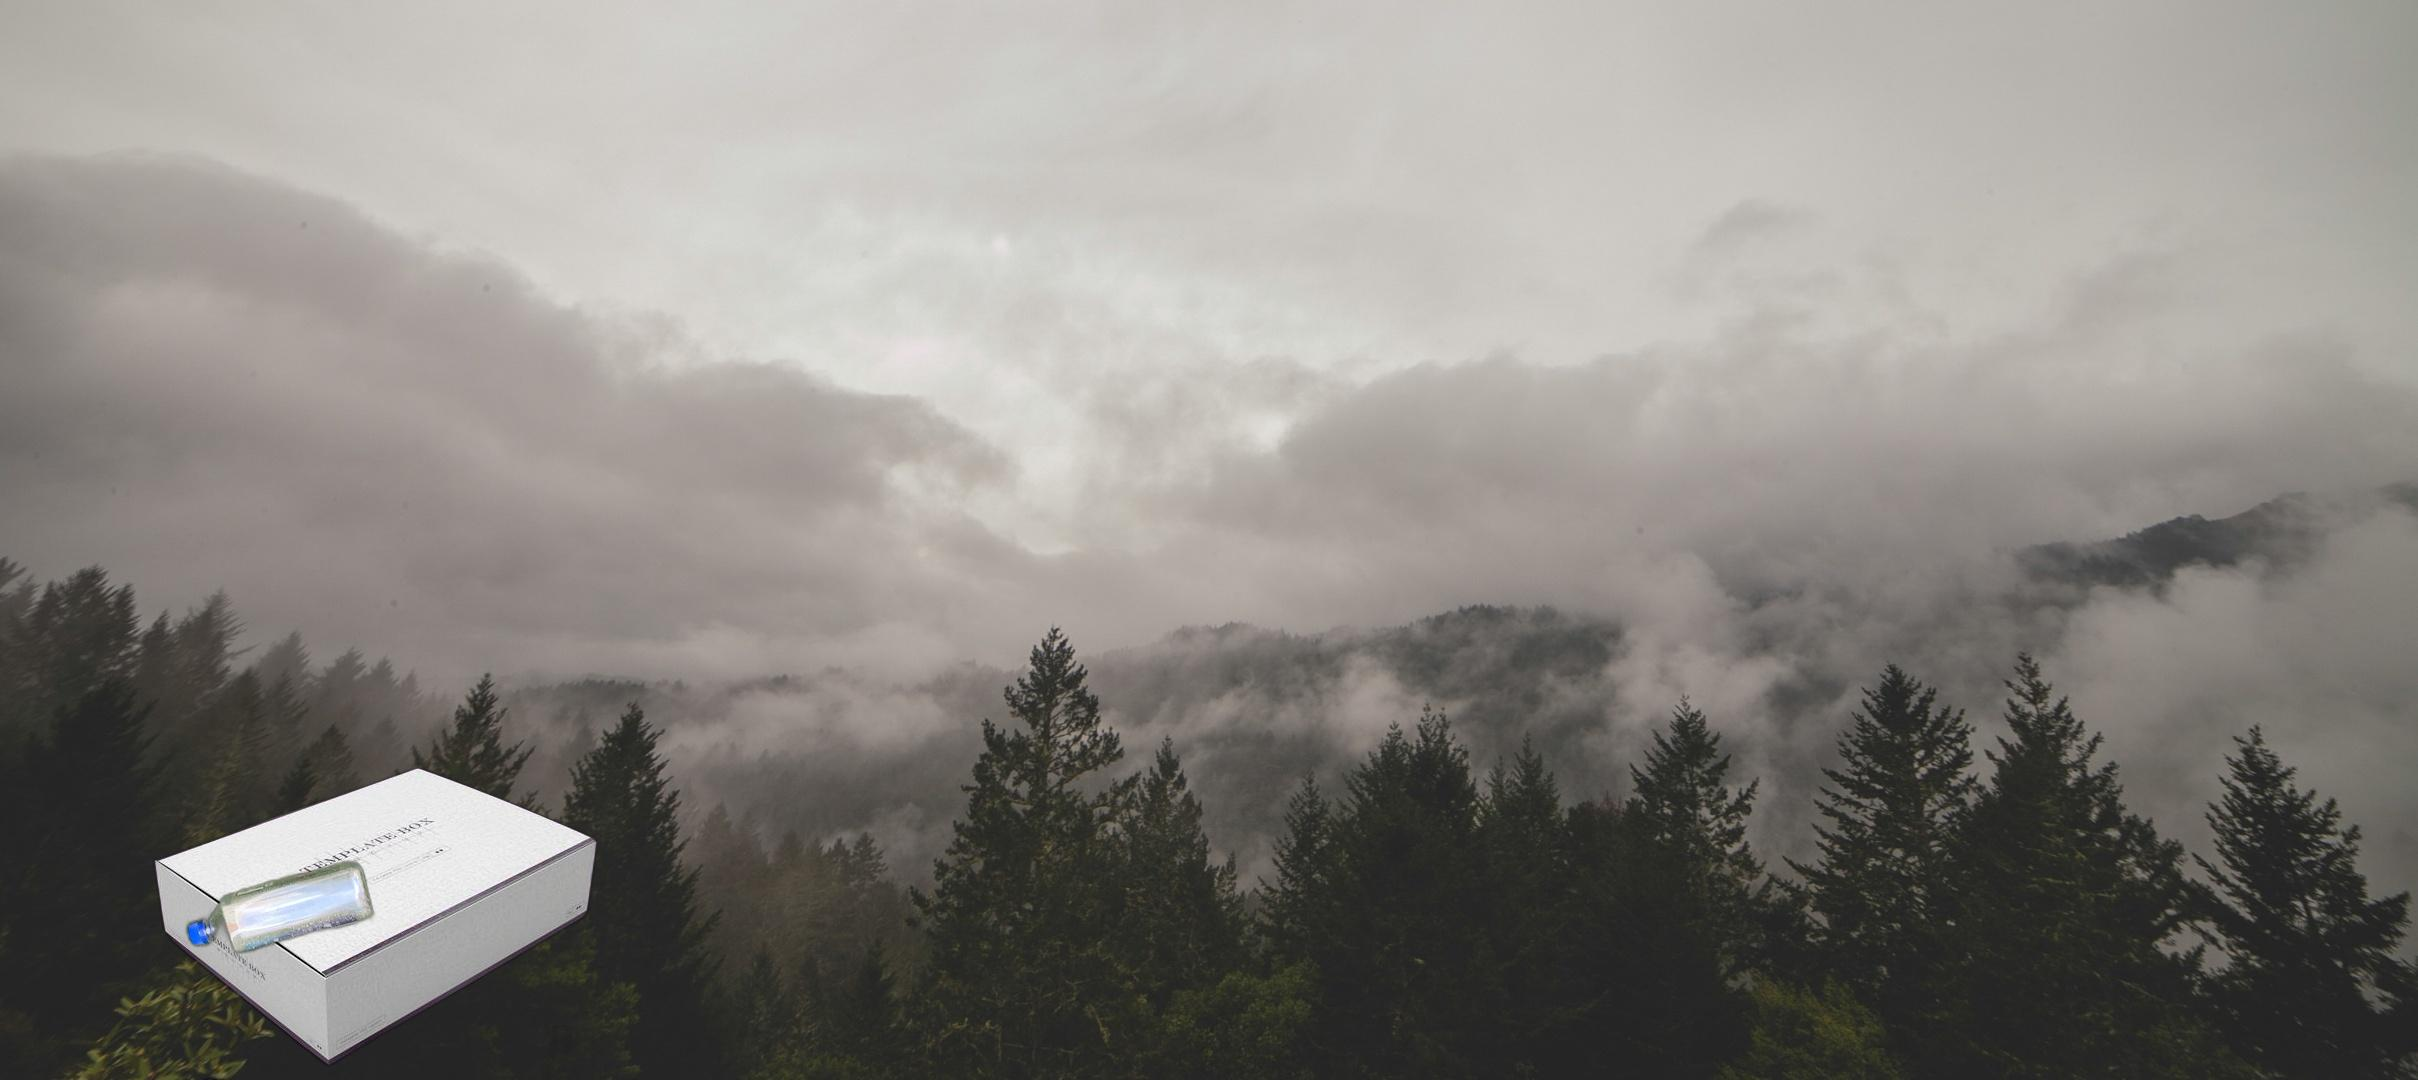metal-cans: (99, 1072, 250, 1080)
paper-bag: (466, 1024, 665, 1080)
plastic-bottles: (37, 855, 378, 1080)
trashbox-cardboard: (1844, 707, 2418, 1080), (150, 764, 603, 1068)
